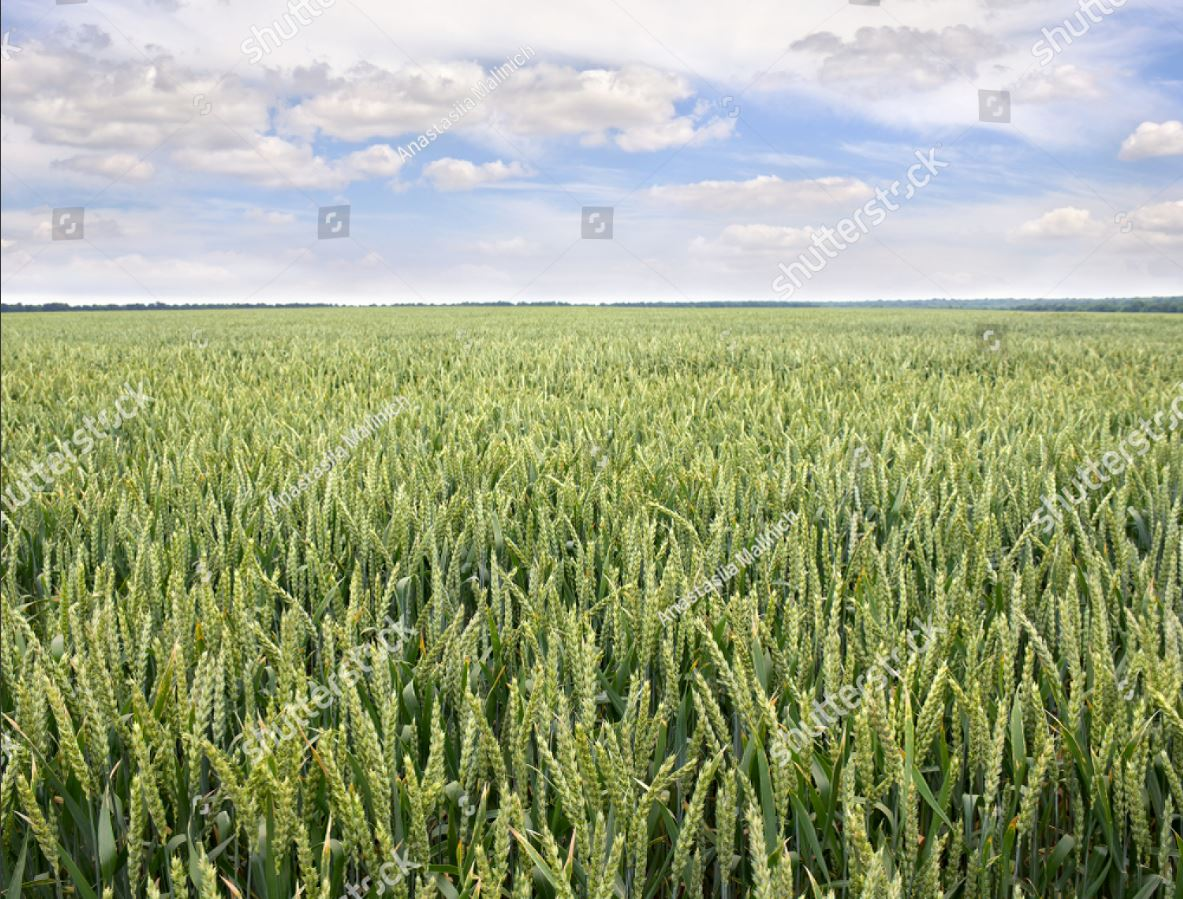Wheat: (126, 434, 1026, 831)
